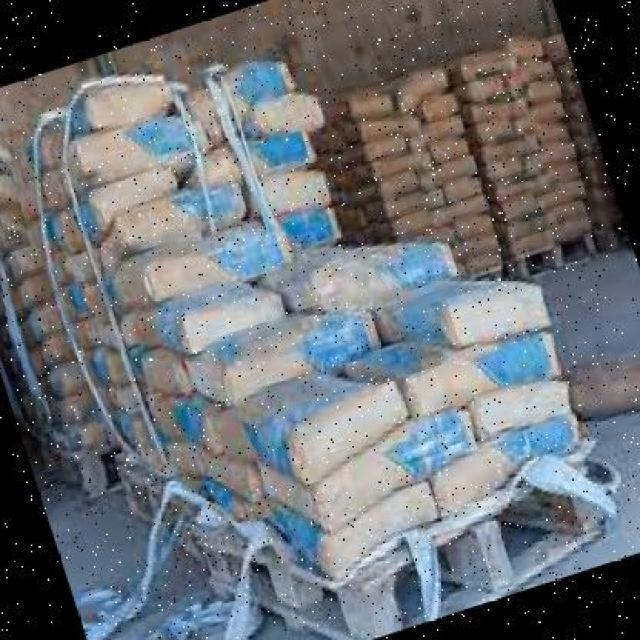gunny_bag: (309, 405, 480, 531), (222, 307, 382, 407), (430, 417, 584, 520), (136, 215, 296, 307), (405, 329, 564, 418), (329, 475, 442, 584), (294, 383, 410, 487), (113, 182, 251, 263), (310, 240, 459, 311), (174, 278, 284, 358), (158, 423, 262, 504), (73, 112, 196, 180), (81, 160, 189, 231), (448, 282, 551, 347), (470, 376, 572, 438), (171, 464, 264, 527), (250, 165, 328, 224), (222, 63, 297, 121), (157, 396, 224, 458), (85, 76, 170, 123), (241, 128, 317, 176), (30, 204, 83, 263), (130, 352, 191, 401), (179, 141, 242, 188), (19, 165, 68, 225), (253, 95, 326, 135), (45, 242, 103, 292), (109, 408, 169, 456), (281, 205, 343, 250), (180, 91, 232, 144), (60, 279, 121, 324), (12, 124, 56, 186), (383, 181, 451, 218), (394, 68, 450, 112), (84, 347, 140, 389), (460, 44, 518, 83), (71, 315, 129, 352), (392, 203, 451, 239), (122, 447, 175, 487), (475, 90, 532, 127), (376, 151, 434, 184), (532, 160, 581, 199), (382, 167, 437, 200), (553, 211, 596, 252), (509, 52, 554, 91), (515, 100, 566, 134), (538, 177, 590, 210), (500, 188, 542, 228), (538, 134, 579, 171), (436, 150, 477, 186), (416, 93, 461, 125), (460, 251, 505, 283), (545, 197, 591, 228), (455, 211, 497, 244), (486, 134, 537, 161), (359, 115, 421, 137), (424, 113, 468, 144), (444, 174, 485, 207), (473, 74, 512, 108), (362, 137, 411, 164), (100, 385, 148, 412), (430, 134, 470, 166), (492, 171, 536, 200), (348, 87, 394, 114), (482, 112, 517, 147), (517, 228, 558, 257), (510, 214, 548, 244), (487, 151, 526, 177), (454, 191, 489, 219), (526, 78, 559, 106), (457, 236, 497, 257), (532, 118, 568, 140), (514, 36, 543, 60)
